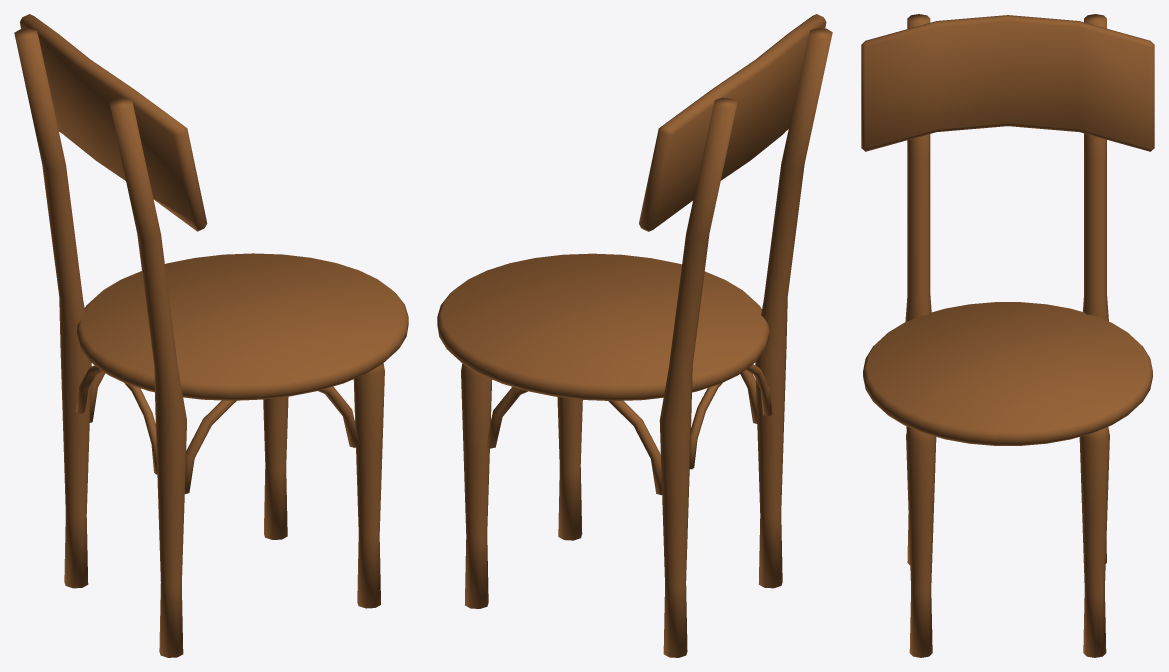
Rendered from Chair.gltf.
3 views of the same model, side by side, from view 1: azimuth 30°, elevation 25°; view 2: azimuth 150°, elevation 25°; view 3: azimuth 270°, elevation 25° (orthographic). The views are drawn at different scales.
Visible parts, largest first — view 1: Chair; view 2: Chair; view 3: Chair.
Part boxes in pixels (box(x1,y1,x2,y2)): Chair: box(14, 14, 408, 657); Chair: box(437, 14, 832, 657); Chair: box(861, 14, 1154, 657).
Bounding box in the file's own units: 2.39 × 3.98 × 2.
